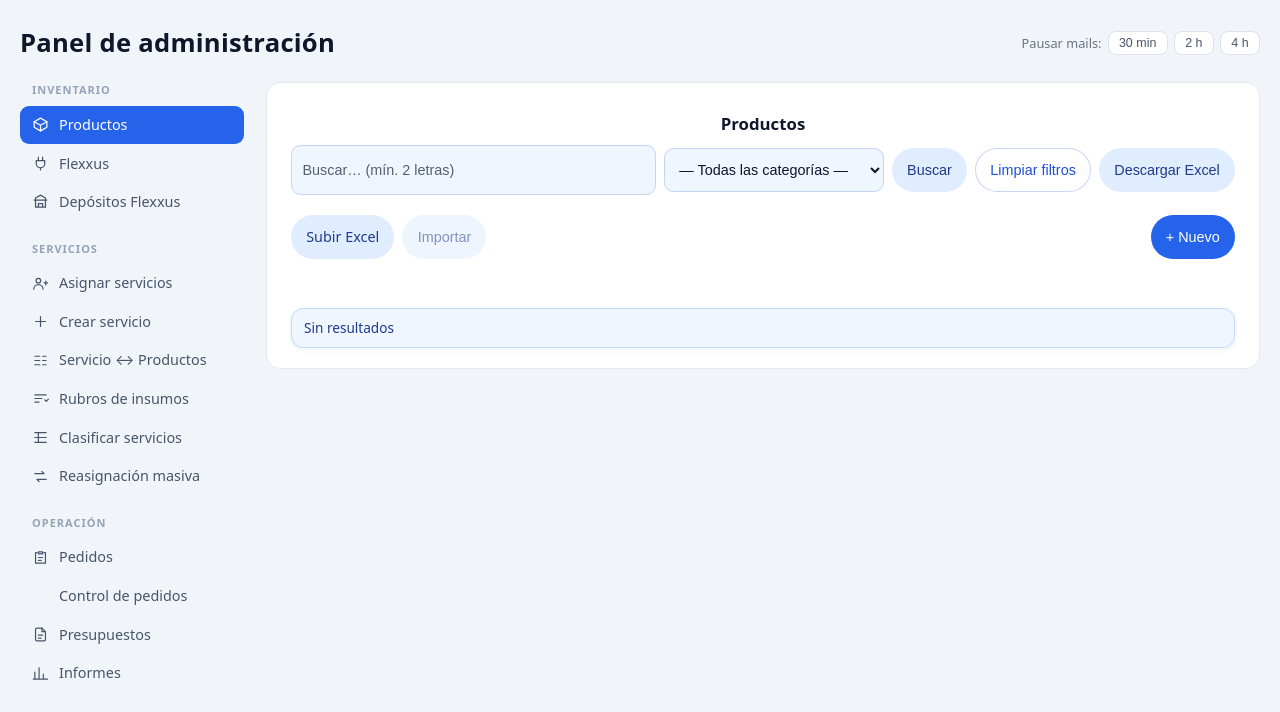
Menú del panel de administración › un clic normal cambia de sección sin recargar
Click the link "Servicio ↔ Productos": (119, 360) left=32, top=350, right=207, bottom=369
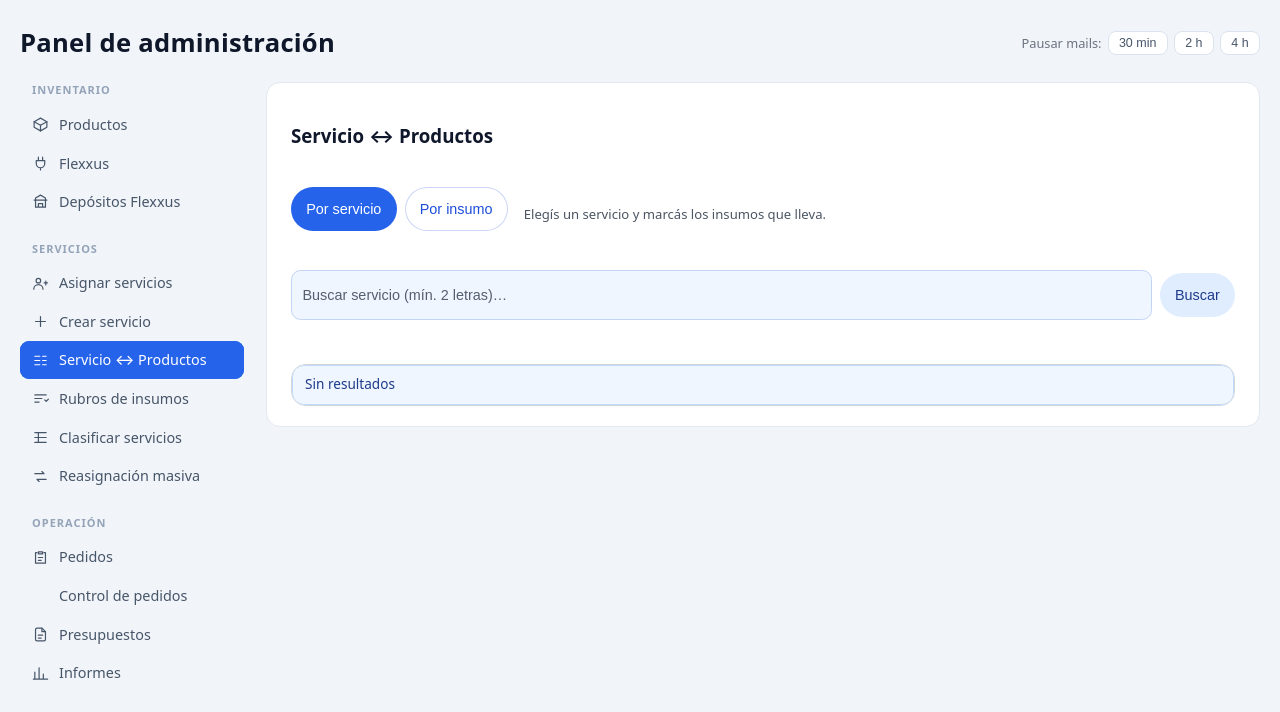
Check: the heading "Servicio ↔ Productos" is shown, box left=291, top=123, right=493, bottom=148
